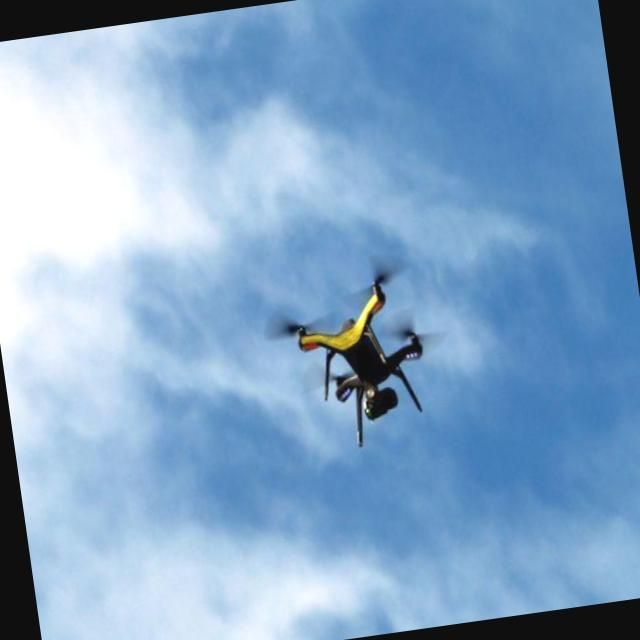drone: (273, 260, 460, 460)
